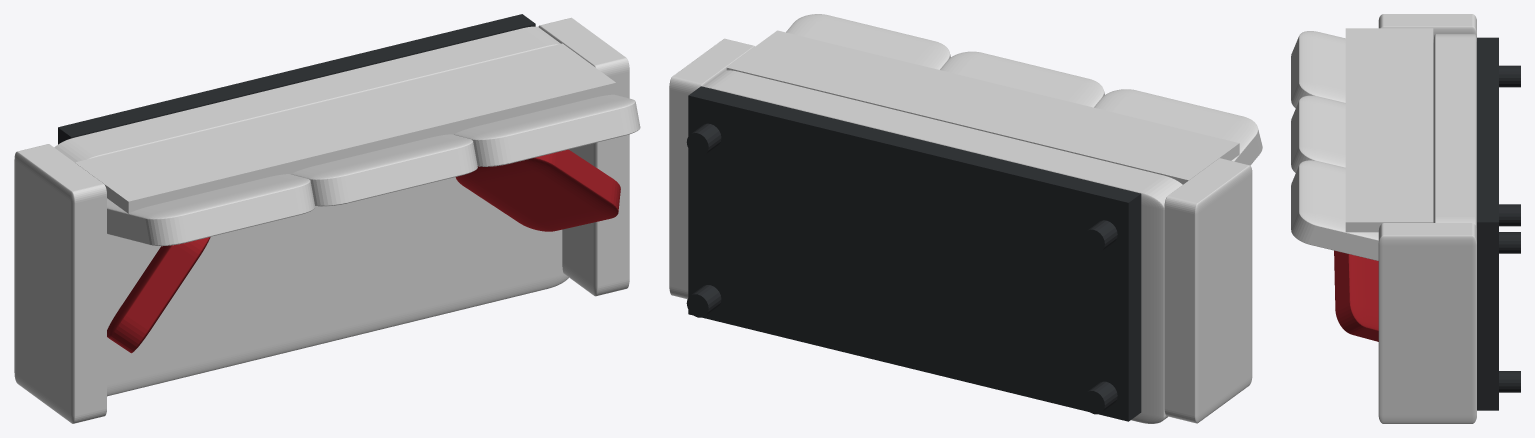
The model's file is tinker.obj.
The picture shows the model from 3 angles, left to right: view 1: azimuth 30°, elevation 25°; view 2: azimuth 150°, elevation 25°; view 3: azimuth 270°, elevation 25°; orthographic projection. The views are drawn at different scales.
Parts seen in each view (by area): view 1: obj_8, obj_3, obj_2, obj_1, obj_13, obj_11, obj_10, obj_9, obj_0, obj_12; view 2: obj_0, obj_3, obj_2, obj_8, obj_1, obj_11, obj_10, obj_9, obj_5, obj_6, obj_4, obj_7; view 3: obj_1, obj_3, obj_8, obj_0, obj_9, obj_10, obj_11, obj_13, obj_2, obj_5, obj_7, obj_4 (+1 smaller).
Part boxes in pixels (box(x1,y1,x2,y2)): obj_8: box(54, 26, 568, 396); obj_3: box(75, 43, 616, 213); obj_2: box(14, 144, 106, 423); obj_1: box(538, 17, 629, 296); obj_13: box(455, 149, 620, 231); obj_11: box(107, 174, 315, 246); obj_10: box(291, 134, 477, 206); obj_9: box(454, 94, 640, 166); obj_0: box(58, 14, 535, 144); obj_12: box(107, 237, 210, 353); obj_0: box(688, 86, 1141, 421); obj_3: box(726, 30, 1239, 184); obj_2: box(1164, 158, 1252, 423); obj_8: box(703, 70, 1182, 423); obj_1: box(669, 38, 754, 298); obj_11: box(1094, 89, 1262, 165); obj_10: box(940, 51, 1104, 107); obj_9: box(786, 14, 950, 69); obj_5: box(1083, 381, 1117, 414); obj_6: box(686, 123, 721, 156); obj_4: box(686, 285, 721, 317); obj_7: box(1083, 220, 1117, 252); obj_1: box(1378, 223, 1476, 423); obj_3: box(1345, 28, 1433, 232); obj_8: box(1433, 34, 1476, 229); obj_0: box(1477, 37, 1498, 410); obj_9: box(1291, 160, 1378, 260); obj_10: box(1291, 95, 1345, 172); obj_11: box(1291, 31, 1345, 108); obj_13: box(1334, 250, 1378, 341); obj_2: box(1378, 14, 1476, 42); obj_5: box(1499, 204, 1520, 226); obj_7: box(1499, 65, 1520, 87); obj_4: box(1499, 371, 1520, 392).
Size of the model in its own units: 48 by 20.13 by 21.
